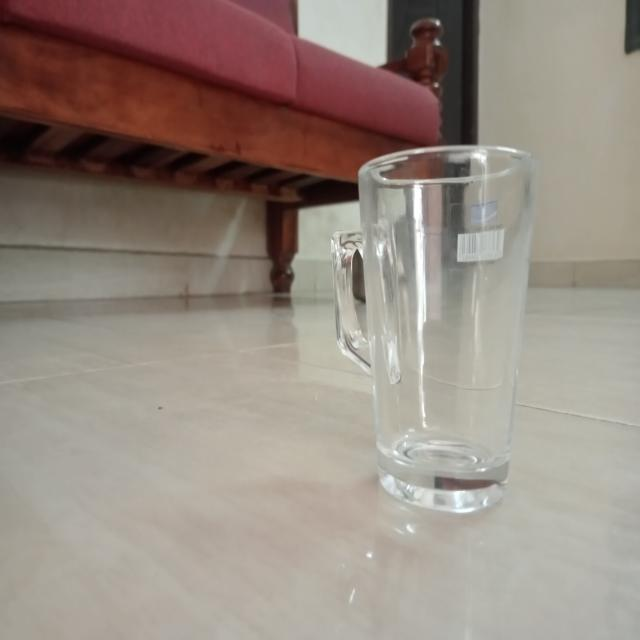glass-VX4N: (332, 144, 538, 515)
